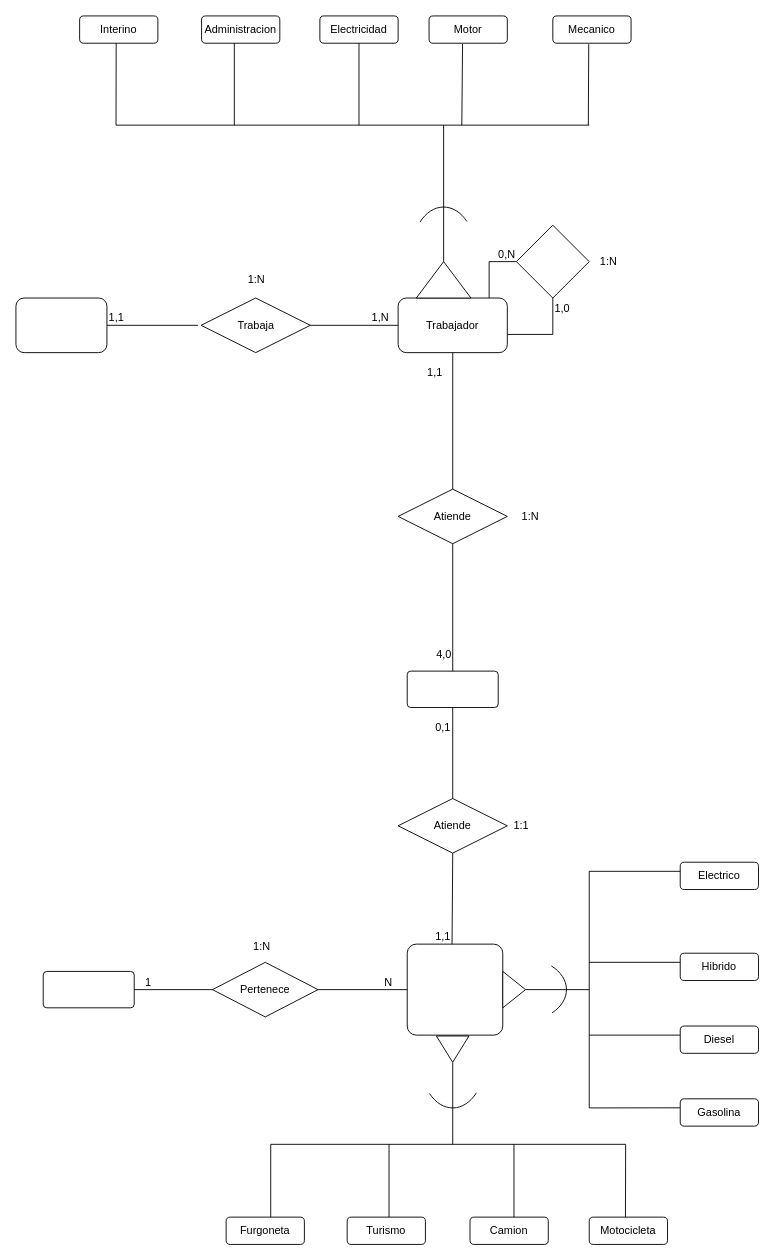
The diagram is 774 pixels wide and 1260 high, and some of its shapes have lost their labels. Here are the shapes that lost their labels. From the top down, the box of each, then its label:
(516, 224, 589, 298): Es responsable
(15, 297, 107, 353): Estacion
(406, 670, 498, 708): Cita
(42, 971, 134, 1008): Propietario
(406, 943, 503, 1035): Vehiculo
